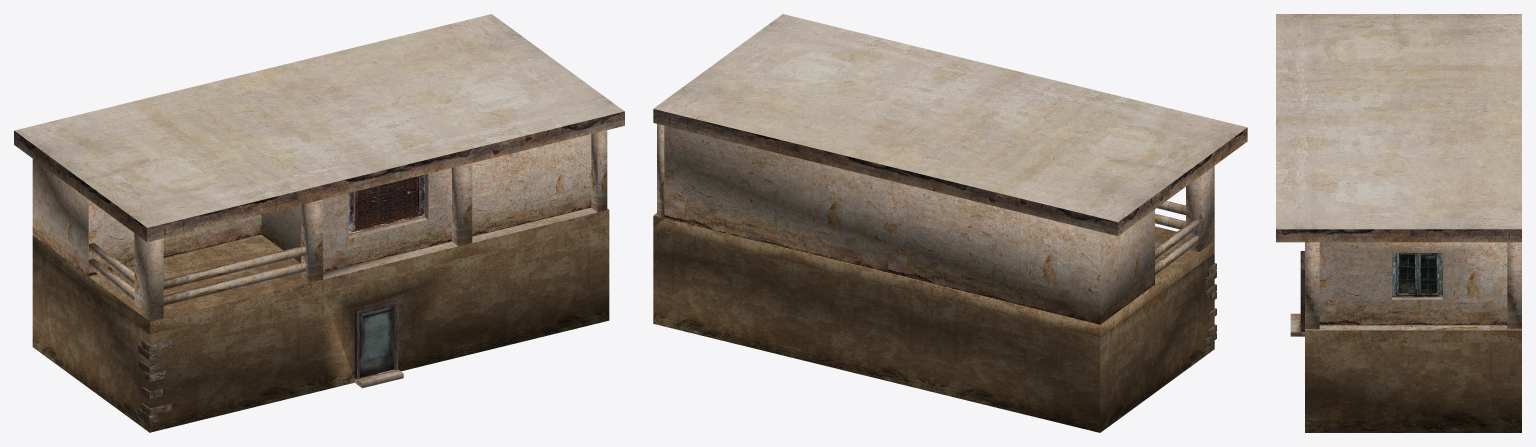
File: BuildingK_Seperated.fbx
The picture shows the model from 3 angles, left to right: view 1: azimuth 30°, elevation 25°; view 2: azimuth 150°, elevation 25°; view 3: azimuth 270°, elevation 25°; orthographic projection. The views are drawn at different scales.
Visible parts, largest first — view 1: BuildingK_Roof, BuildingK_Wall1, BuildingK_Wall2, BuildingK_FloorBalcony, BuildingK_Window1, BuildingK_Door1; view 2: BuildingK_Roof, BuildingK_Wall1, BuildingK_Wall2, BuildingK_FloorBalcony; view 3: BuildingK_Roof, BuildingK_Wall1, BuildingK_Wall2, BuildingK_Window2, BuildingK_Door1.
Boxes of the visible parts, x1,y1,x2,y2 form: BuildingK_Roof: (14, 14, 624, 242); BuildingK_Wall1: (32, 209, 609, 432); BuildingK_Wall2: (32, 130, 608, 321); BuildingK_FloorBalcony: (89, 234, 308, 318); BuildingK_Window1: (348, 174, 428, 238); BuildingK_Door1: (354, 300, 403, 388); BuildingK_Roof: (653, 14, 1247, 235); BuildingK_Wall1: (653, 216, 1216, 432); BuildingK_Wall2: (653, 124, 1214, 324); BuildingK_FloorBalcony: (1155, 226, 1198, 284); BuildingK_Roof: (1276, 14, 1521, 242); BuildingK_Wall1: (1305, 330, 1521, 432); BuildingK_Wall2: (1305, 242, 1521, 330); BuildingK_Window2: (1391, 253, 1442, 299); BuildingK_Door1: (1290, 251, 1304, 336).
Size of the model in its own units: 2122 by 938 by 1025.
